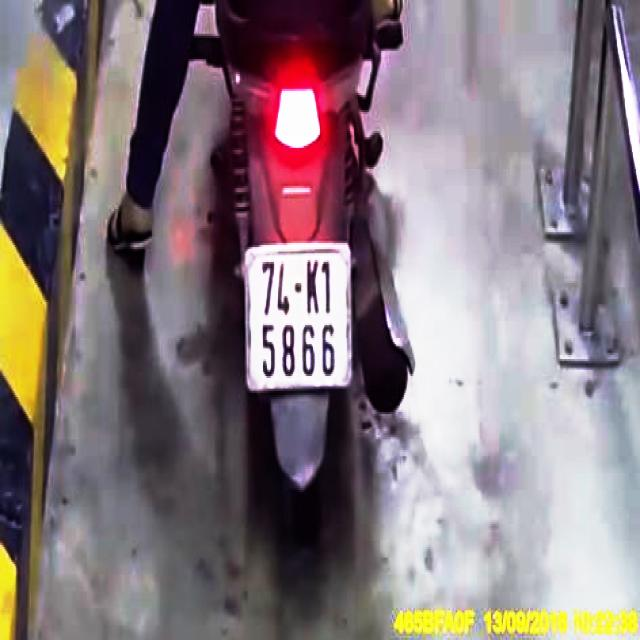license_plate: (246, 250, 349, 386)
